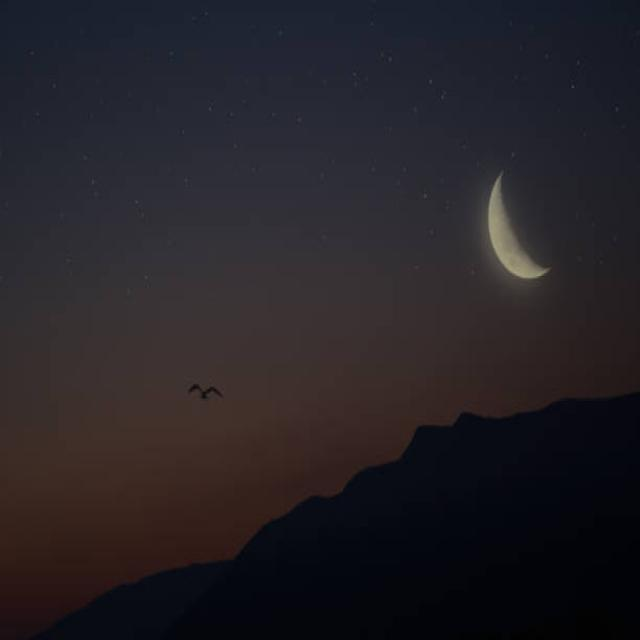moon: (486, 165, 570, 292)
